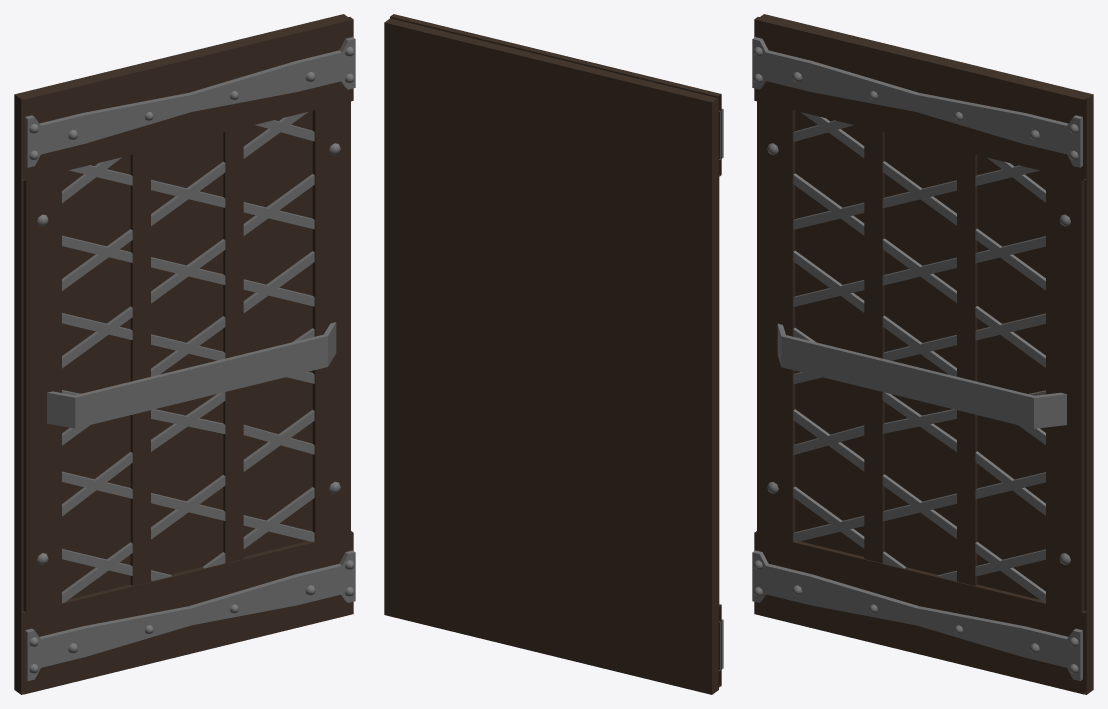
The model's file is SM_door_norse_02.fbx.
3 renders of one model, left to right at view 1: azimuth 30°, elevation 25°; view 2: azimuth 150°, elevation 25°; view 3: azimuth 330°, elevation 25°, orthographic.
Visible parts, largest first — view 1: Box039; view 2: Box039; view 3: Box039.
Boxes of the visible parts, x1=… form: Box039: x1=14, y1=14, x2=355, y2=694; Box039: x1=384, y1=14, x2=723, y2=694; Box039: x1=752, y1=14, x2=1093, y2=694.
Bounding box in the file's own units: 51.58 × 89.22 × 5.88.
